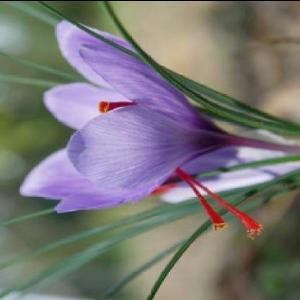Saffron: (20, 19, 239, 212)
